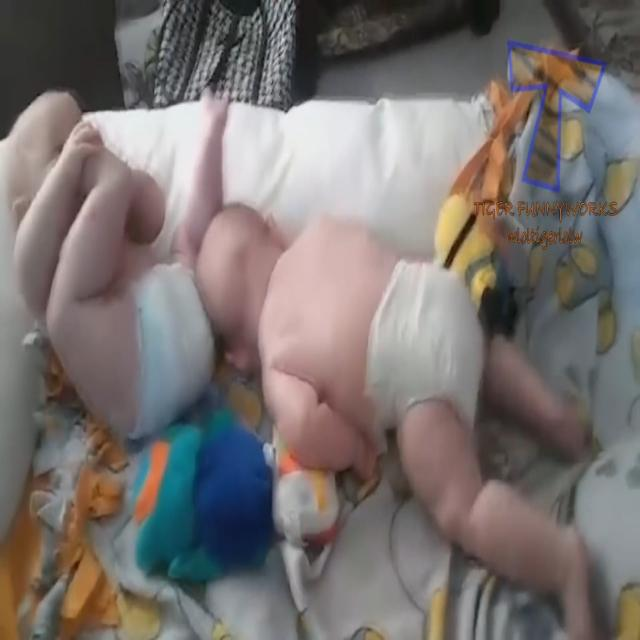dangerous: (198, 194, 572, 517), (6, 81, 214, 432)
